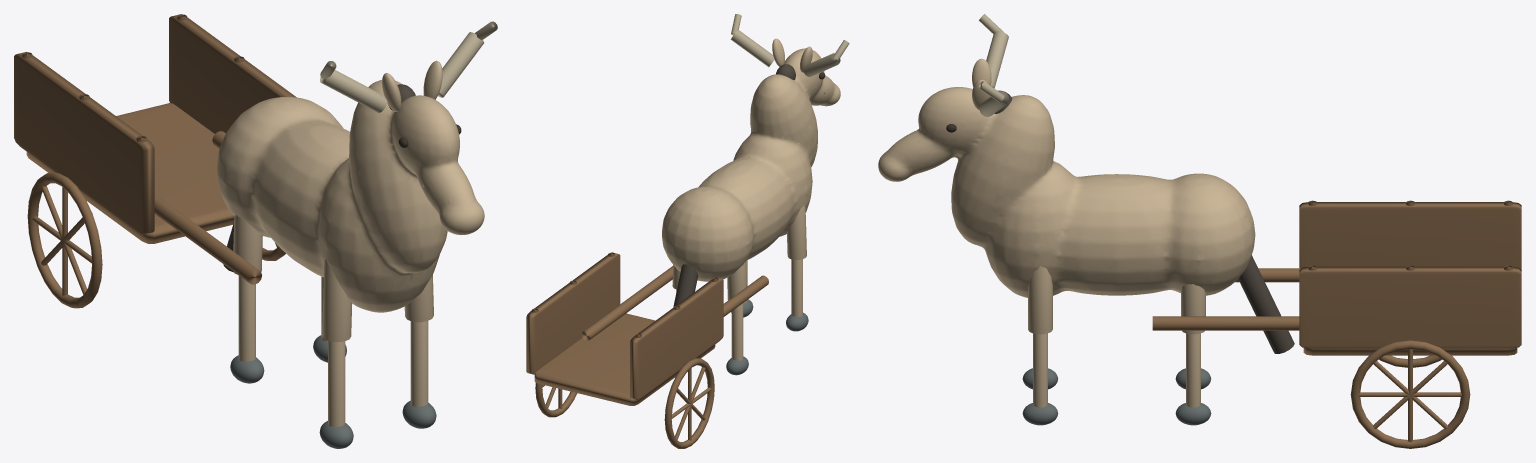
The model's file is oxcart.glb.
The picture shows the model from 3 angles, left to right: view 1: azimuth 30°, elevation 25°; view 2: azimuth 150°, elevation 25°; view 3: azimuth 270°, elevation 25°; orthographic projection. The views are drawn at different scales.
Visible parts, largest first — view 1: Barrel.001, Cart side, Cart floor, Cart side.001, Wooden wheel, Shaft, Upper leg.004, Lower leg.006, Lower leg.004, Lower leg.005, Horn, Horn.001 (+7 smaller); view 2: Barrel.001, Cart side, Cart side.001, Cart floor, Wooden wheel, Shaft.001, Upper leg.004, Lower leg.005, Lower leg.004, Tail.001, Horn.001, Shaft (+3 smaller); view 3: Barrel.001, Cart side.001, Cart side, Wooden wheel.001, Shaft.001, Tail.001, Upper leg.006, Cart floor, Lower leg.006, Lower leg.007, Upper leg.007, Horn.
Boxes of the visible parts, left/top/right/bottom form: Barrel.001: left=217, top=80, right=484, bottom=312; Cart side: left=14, top=52, right=154, bottom=234; Cart floor: left=26, top=103, right=234, bottom=243; Cart side.001: left=169, top=14, right=296, bottom=133; Wooden wheel: left=27, top=172, right=102, bottom=308; Shaft: left=154, top=194, right=261, bottom=284; Upper leg.004: left=322, top=259, right=352, bottom=342; Lower leg.006: left=410, top=321, right=428, bottom=406; Lower leg.004: left=328, top=341, right=345, bottom=426; Lower leg.005: left=238, top=275, right=255, bottom=361; Horn: left=320, top=70, right=387, bottom=112; Horn.001: left=438, top=32, right=483, bottom=97; Barrel.001: left=662, top=48, right=840, bottom=281; Cart side: left=630, top=277, right=723, bottom=399; Cart side.001: left=526, top=252, right=620, bottom=374; Cart floor: left=534, top=313, right=715, bottom=405; Wooden wheel: left=664, top=358, right=714, bottom=448; Shaft.001: left=582, top=266, right=672, bottom=340; Upper leg.004: left=787, top=204, right=806, bottom=259; Lower leg.005: left=731, top=303, right=743, bottom=360; Lower leg.004: left=791, top=259, right=802, bottom=316; Tail.001: left=673, top=264, right=698, bottom=306; Horn.001: left=730, top=29, right=774, bottom=67; Shaft: left=723, top=275, right=768, bottom=316; Barrel.001: left=878, top=87, right=1255, bottom=297; Cart side.001: left=1299, top=266, right=1521, bottom=348; Cart side: left=1299, top=202, right=1521, bottom=269; Wooden wheel.001: left=1350, top=340, right=1470, bottom=448; Shaft.001: left=1152, top=316, right=1299, bottom=330; Tail.001: left=1238, top=255, right=1294, bottom=353; Upper leg.006: left=1028, top=266, right=1052, bottom=334; Cart floor: left=1303, top=347, right=1517, bottom=355; Lower leg.006: left=1033, top=333, right=1047, bottom=407; Lower leg.007: left=1186, top=333, right=1200, bottom=407; Upper leg.007: left=1181, top=284, right=1205, bottom=334; Horn: left=986, top=31, right=1008, bottom=88.
Bounding box in the file's own units: 1.13 × 2.23 × 3.62.
